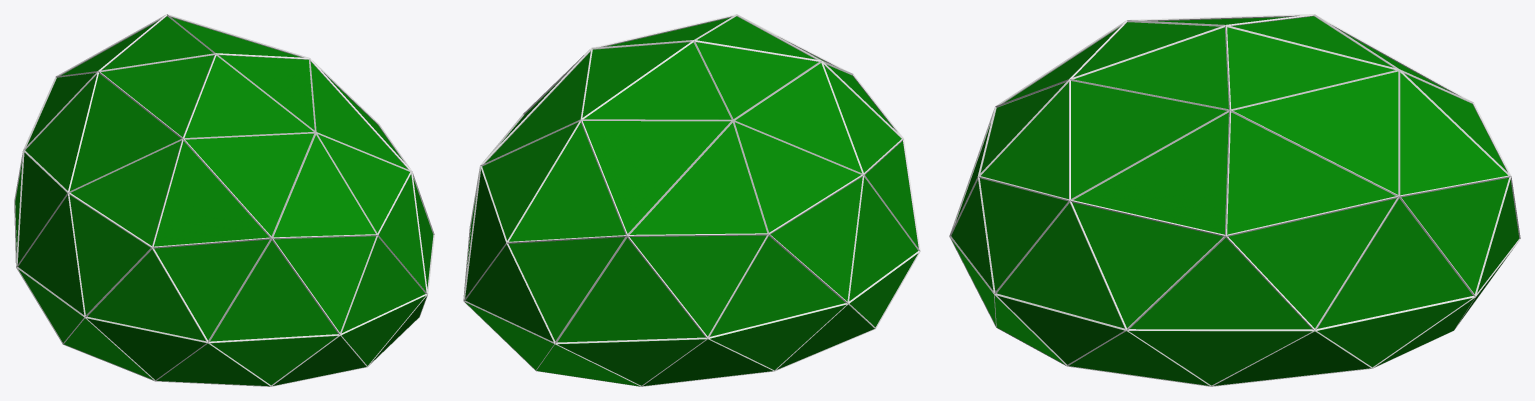
Rendered from bush3.glb.
The picture shows the model from 3 angles, left to right: view 1: azimuth 30°, elevation 25°; view 2: azimuth 150°, elevation 25°; view 3: azimuth 270°, elevation 25°; orthographic projection. The views are drawn at different scales.
Visible parts, largest first — view 1: Icosphere.001, Icosphere; view 2: Icosphere.001, Icosphere; view 3: Icosphere.001, Icosphere.
Part boxes in pixels (x1,y1,x2,y2): Icosphere.001: (15,16,433,386); Icosphere: (14,14,434,386); Icosphere.001: (465,16,918,386); Icosphere: (463,14,920,386); Icosphere.001: (951,16,1519,385); Icosphere: (949,14,1520,386).
Bounding box in the file's own units: 0.5443 × 0.392 × 0.6991.
